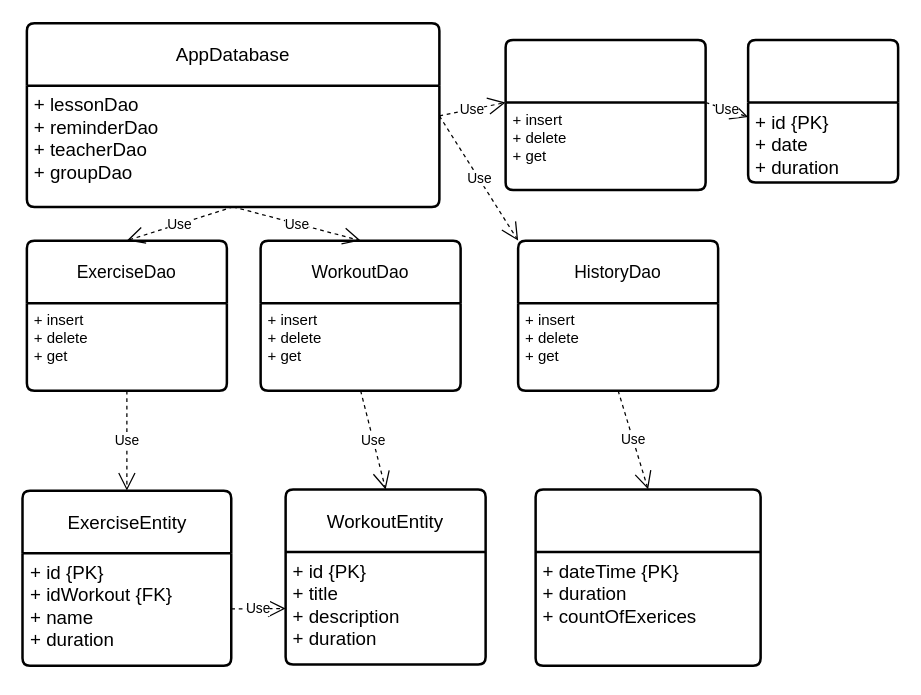
This 921x695 diagram has some shape labels left out. The box of each missing label's shape, as (x1, y1, x2, y2) in pixels:
HistoryEntity: (534, 488, 761, 666)
SleepDao: (504, 38, 706, 191)
SleepEntity: (746, 38, 899, 183)
